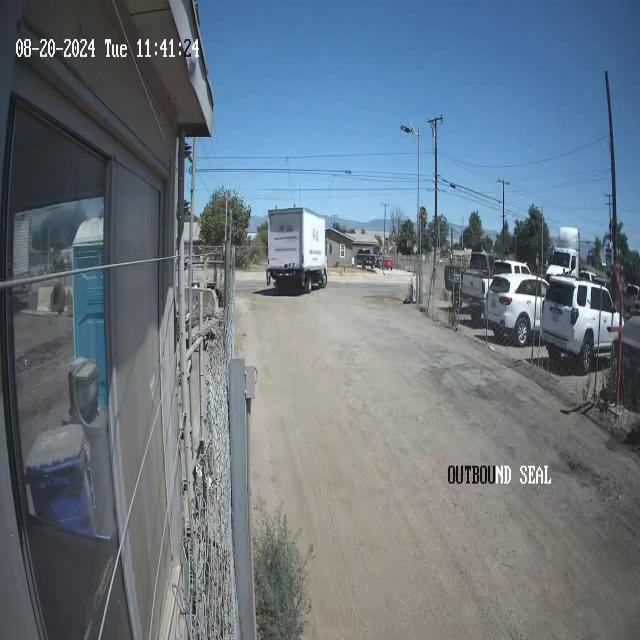CONTAINER: (265, 205, 328, 294)
